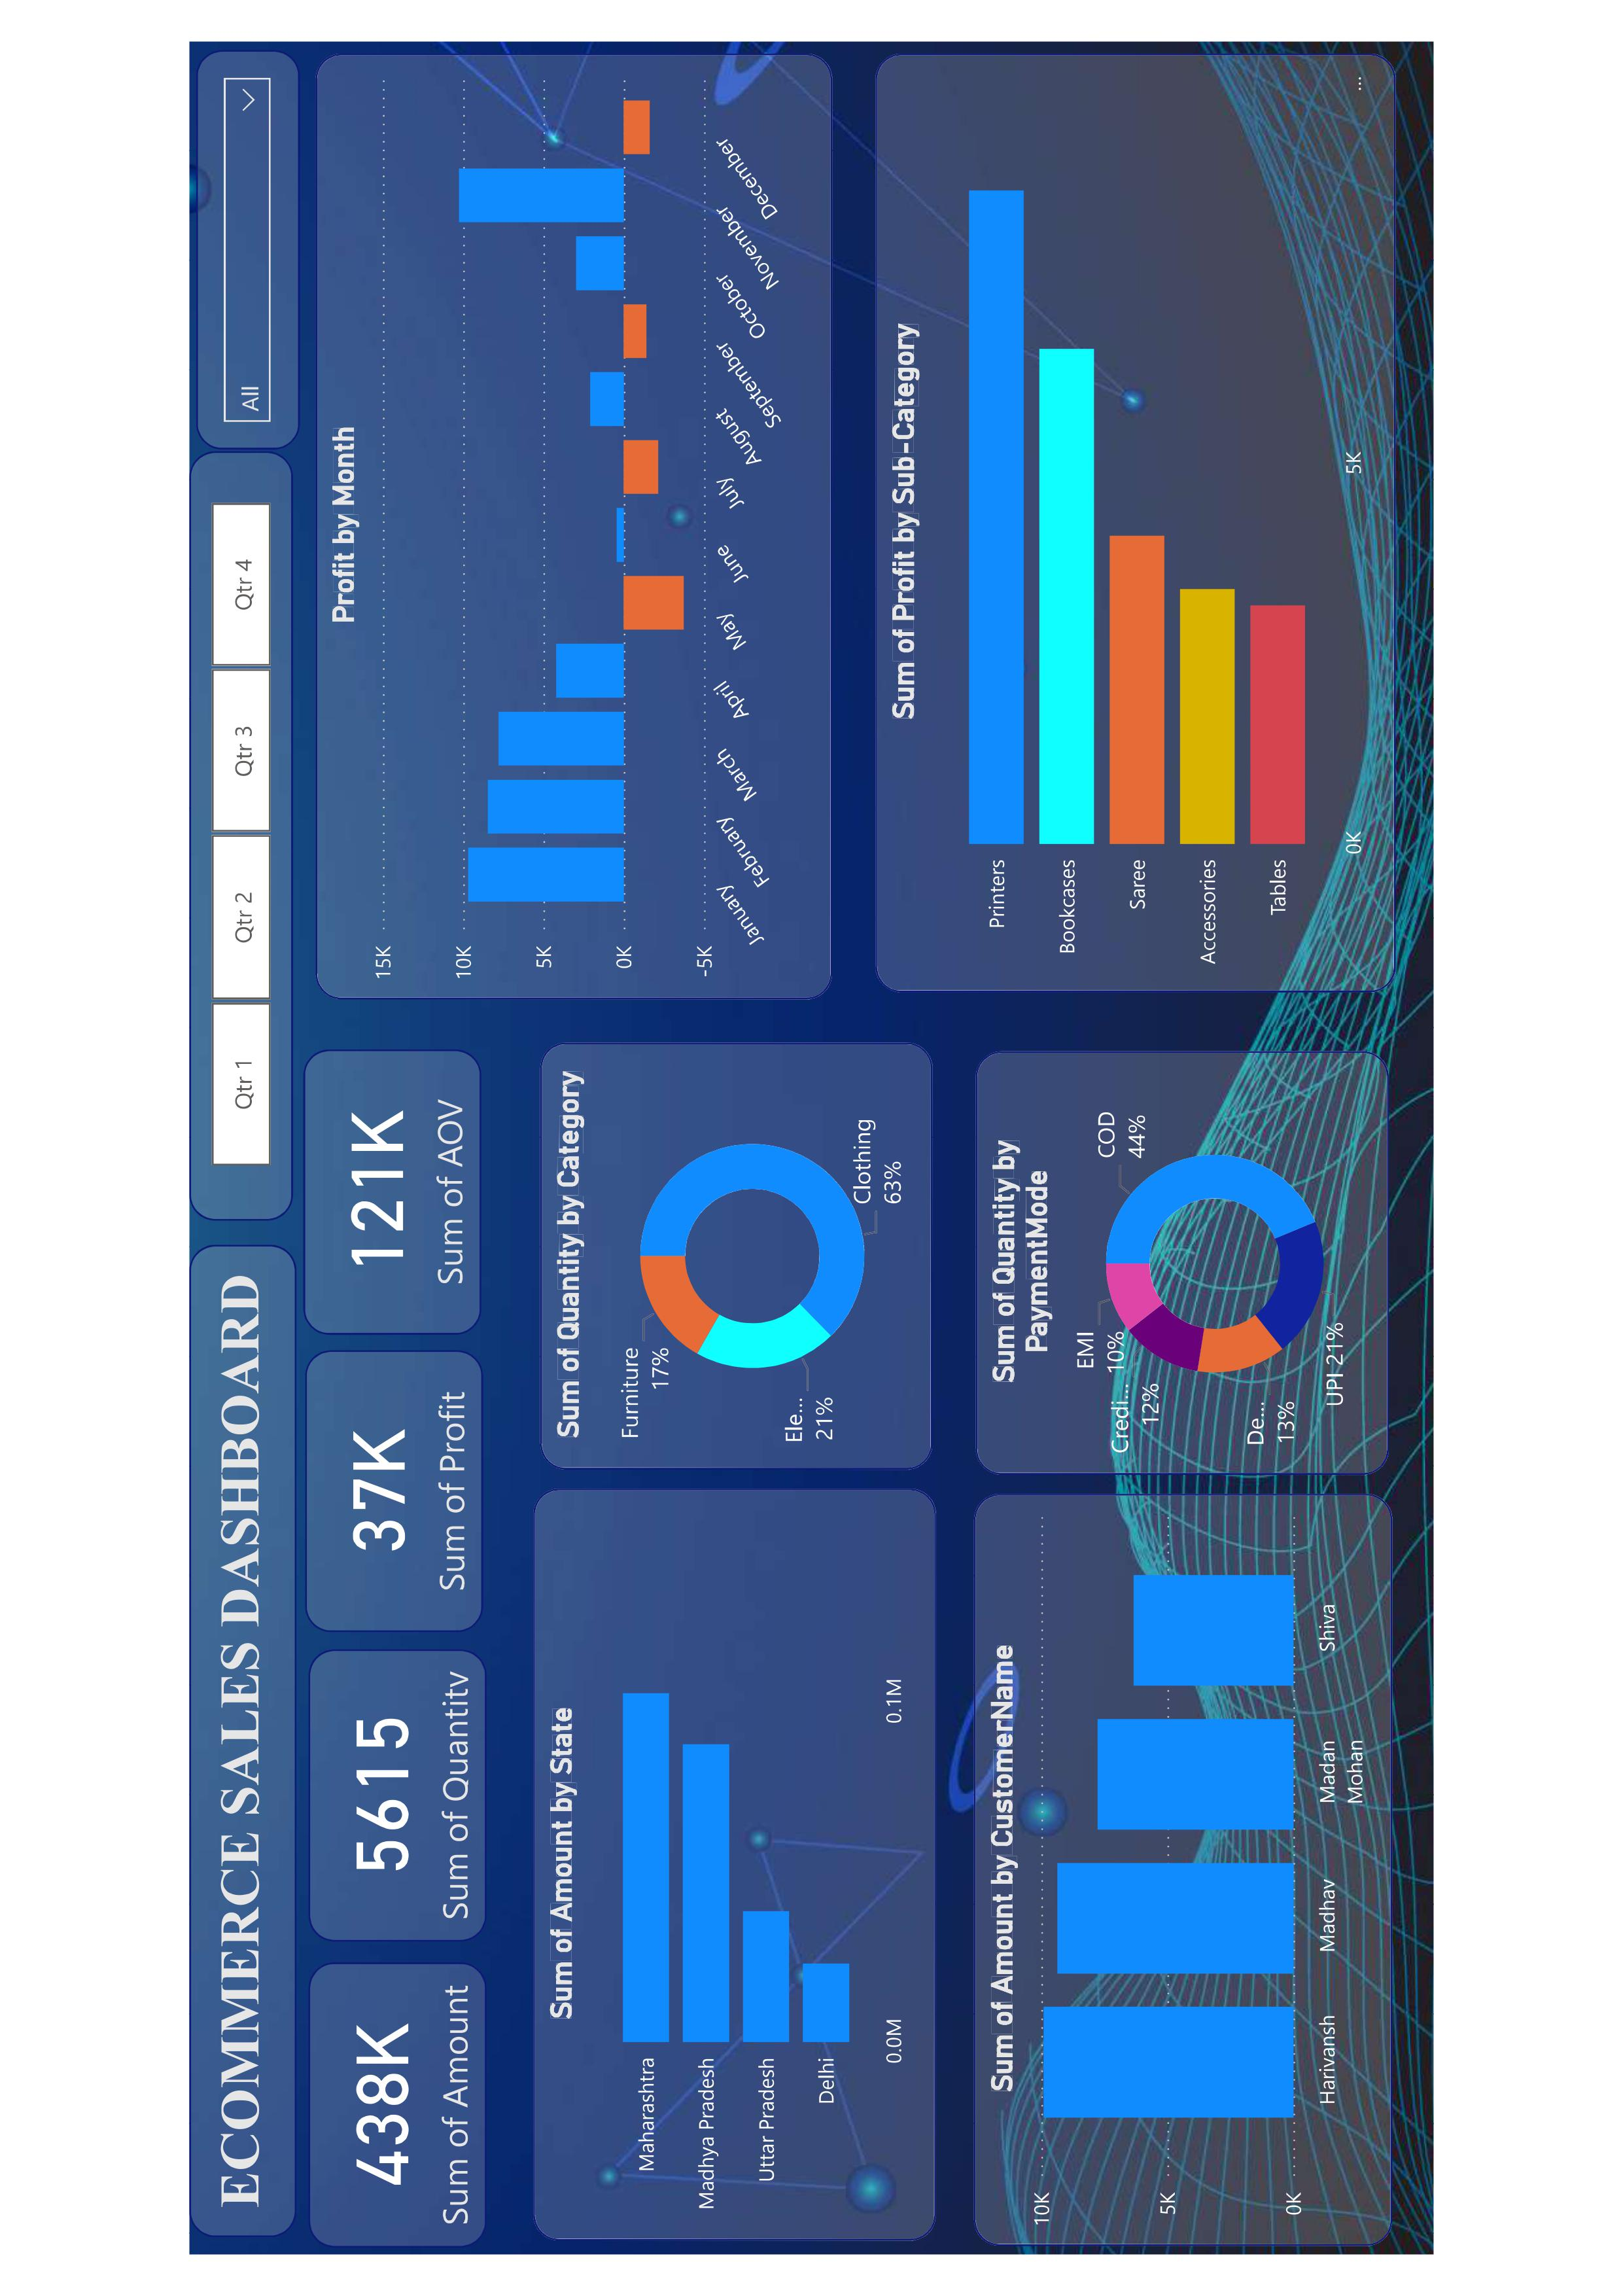

What the dashboard file says about the page in this screenshot:
{"tool":"powerbi","page":{"name":"E-Commerce Sales Dashboard","canvas":[1280,720],"ordinal":0},"visuals":[{"type":"textbox","box":[9.6,0,574.1,61.7],"z":0},{"type":"columnChart","title":"Profit by Month","fields":{"Category":["Orders.Order Date.Variation.Date Hierarchy.Month"],"Y":["Details.Profit"]},"box":[725.9,72.7,547.5,299.4],"z":1},{"type":"barChart","fields":{"Category":["Details.Sub-Category"],"Y":["Details.Profit"]},"box":[729.7,396.6,543.4,301.9],"z":2},{"type":"donutChart","fields":{"Category":["Details.Category"],"Y":["Details.Quantity"]},"box":[454.2,203.1,247,226.7],"z":3},{"type":"donutChart","fields":{"Y":["Details.Quantity"],"Category":["Details.PaymentMode"]},"box":[451.5,455.3,244.3,239],"z":4},{"type":"card","fields":{"Values":["Details.Amount"]},"box":[4.1,68.6,164.9,102.9],"z":5},{"type":"card","fields":{"Values":["Details.Quantity"]},"box":[180.6,68.6,169.3,102.9],"z":6},{"type":"card","fields":{"Values":["Details.Profit"]},"box":[360.1,67.2,162.7,102.9],"z":7},{"type":"card","fields":{"Values":["Details.AOV (Average Order Value)"]},"box":[532.1,65.9,164.9,102.9],"z":8},{"type":"barChart","fields":{"Category":["Orders.State"],"Y":["Details.Amount"]},"box":[8.2,199,435,233],"z":9},{"type":"columnChart","fields":{"Category":["Orders.CustomerName"],"Y":["Details.Amount"]},"box":[5.5,453.9,435,241.8],"z":10},{"type":"slicer","fields":{"Values":["Orders.Order Date.Variation.Date Hierarchy.Quarter"]},"box":[598.3,0,444.3,60.4],"z":11},{"type":"slicer","fields":{"Values":["Orders.State"]},"box":[1044.3,4.1,231.1,60.4],"z":12}]}

Visuals, with their boxes on the page's 1280x720 design canvas (x1, y1, x2, y2). These are canvas units, not pixel positions in the 1623x2296 screenshot, which may show the page scaled, cropped or inside an application window:
textbox: crop(10, 0, 584, 62)
"Profit by Month" columnChart: crop(726, 73, 1273, 372)
barChart - Details.Sub-Category x Details.Profit: crop(730, 397, 1273, 698)
donutChart - Details.Category x Details.Quantity: crop(454, 203, 701, 430)
donutChart - Details.Quantity x Details.PaymentMode: crop(452, 455, 696, 694)
card - Details.Amount: crop(4, 69, 169, 172)
card - Details.Quantity: crop(181, 69, 350, 172)
card - Details.Profit: crop(360, 67, 523, 170)
card - Details.AOV (Average Order Value): crop(532, 66, 697, 169)
barChart - Orders.State x Details.Amount: crop(8, 199, 443, 432)
columnChart - Orders.CustomerName x Details.Amount: crop(6, 454, 440, 696)
slicer - Orders.Order Date.Variation.Date Hierarchy.Quarter: crop(598, 0, 1043, 60)
slicer - Orders.State: crop(1044, 4, 1275, 64)
